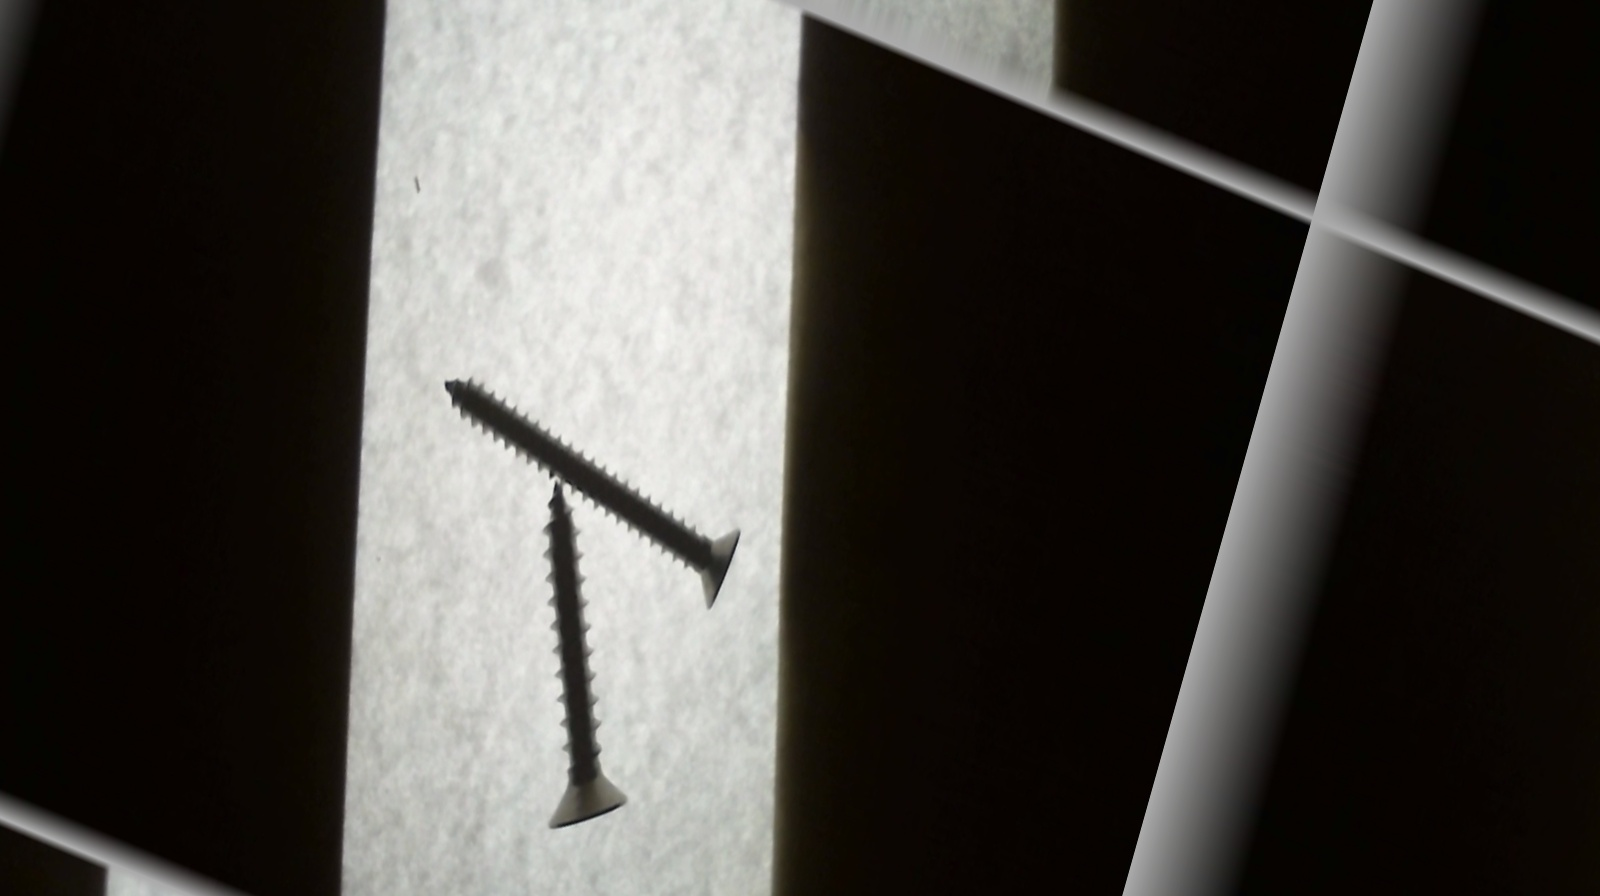S001: (462, 478, 705, 860)
S002: (414, 364, 754, 619)
